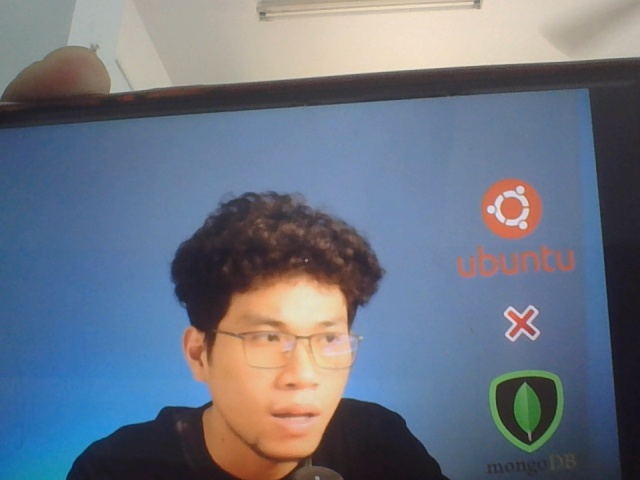fake: (182, 203, 372, 473)
